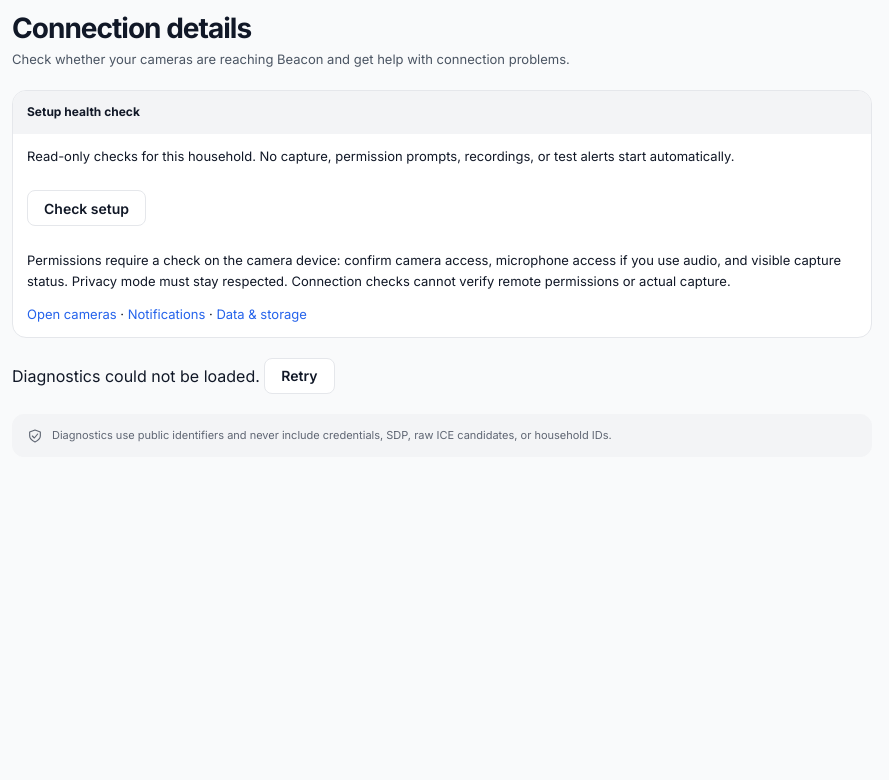
Test case: recovers from a rejected diagnostics request without staying in loading state
The width and height of the screenshot is (889, 780).
Expected: the message shows "Diagnostics could not be loaded.", [12,365,260,385]
Click the button "Retry": (299, 376) [264,358,334,394]
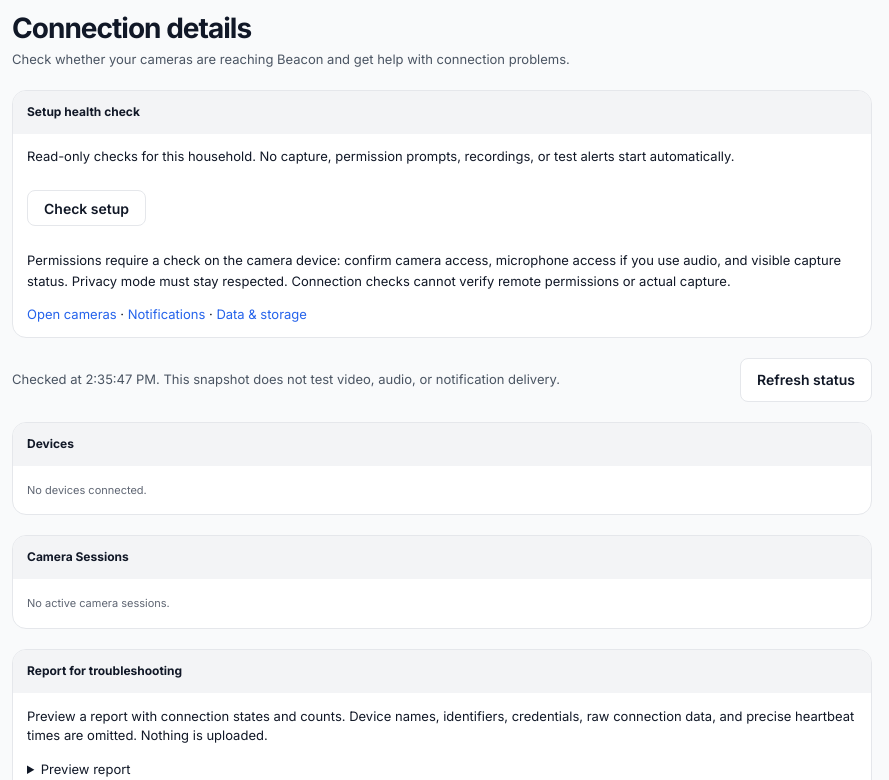
Now the list item "No devices connected." is shown, box [27,483,147,497]
